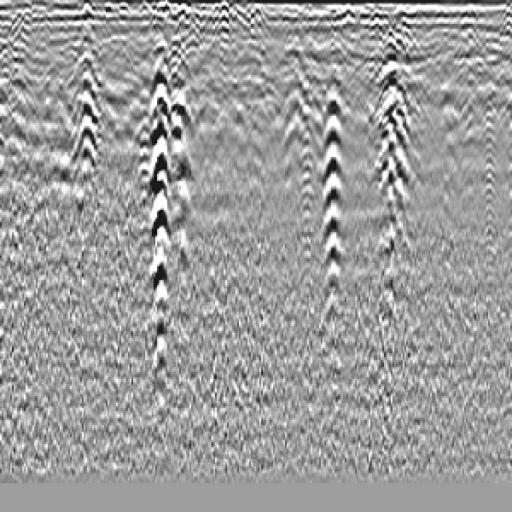metalic: (364, 37, 435, 284)
